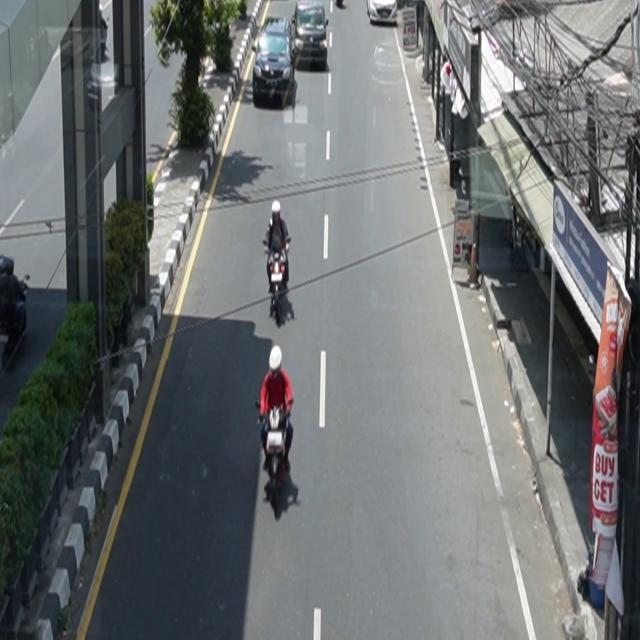car: (253, 17, 298, 110), (292, 1, 330, 71), (367, 1, 398, 26)
